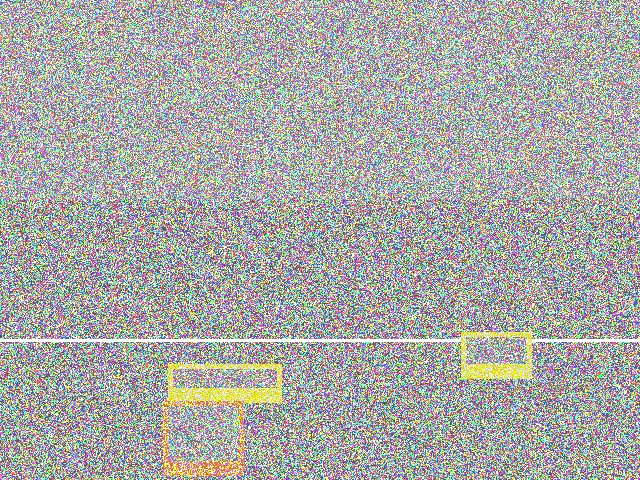motorcycle: (249, 357, 437, 480)
truck: (71, 326, 251, 448), (298, 396, 424, 462)
